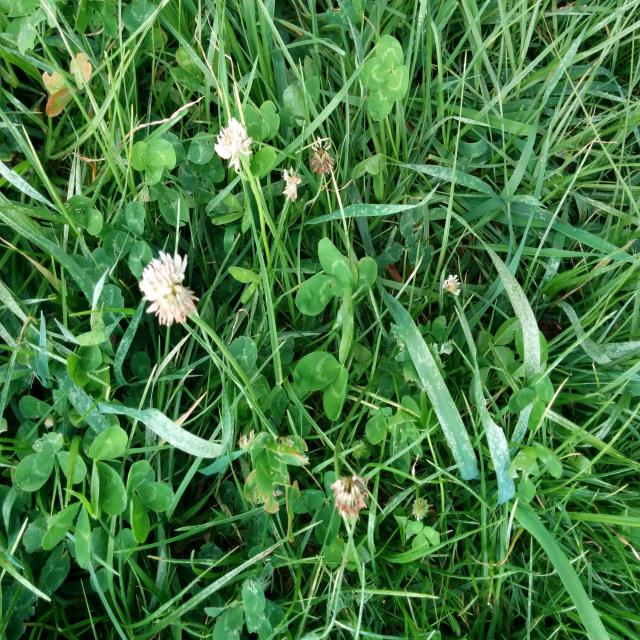Four Leaf Clover: (361, 34, 408, 121)
